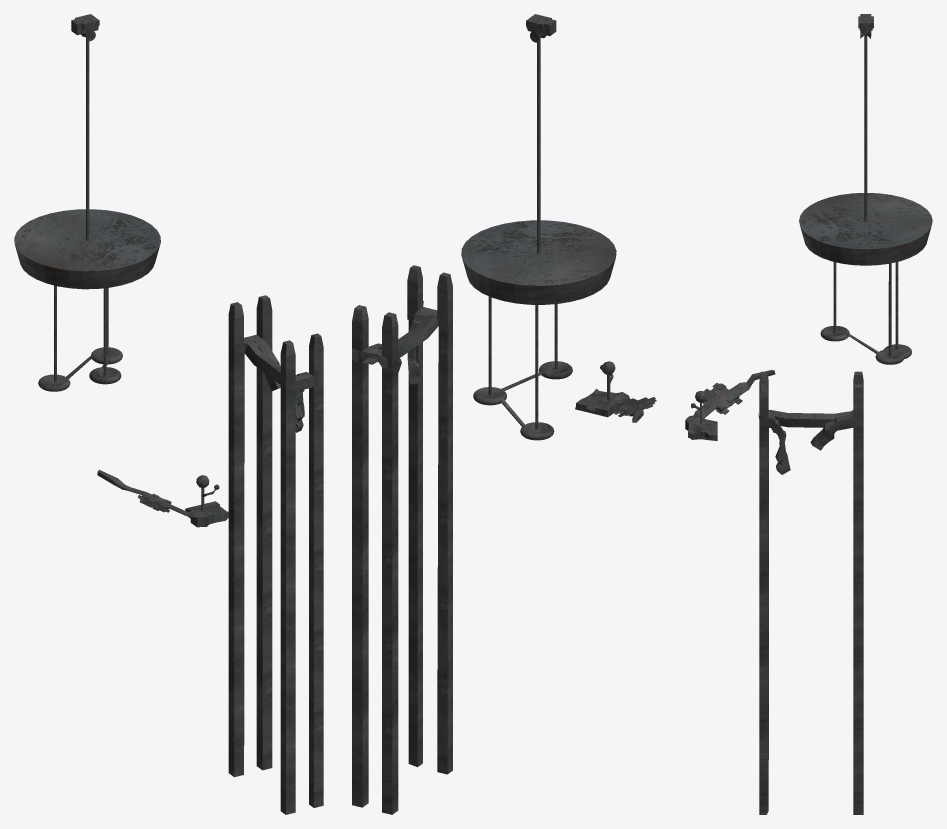
The model's file is LevelPart04.FBX.
3 views of the same model, side by side, from view 1: azimuth 30°, elevation 25°; view 2: azimuth 150°, elevation 25°; view 3: azimuth 270°, elevation 25° (orthographic). The views are drawn at different scales.
Visible parts, largest first — view 1: Saggiest_Bridge, Hanging_Gargens, Icotree_and_Tileland; view 2: Saggiest_Bridge, Hanging_Gargens, Icotree_and_Tileland; view 3: Saggiest_Bridge, Hanging_Gargens, Icotree_and_Tileland.
Boxes of the visible parts, <box> form: Saggiest_Bridge: <box>228,295,323,814</box>; Hanging_Gargens: <box>14,14,160,391</box>; Icotree_and_Tileland: <box>97,469,228,527</box>; Saggiest_Bridge: <box>352,265,452,814</box>; Hanging_Gargens: <box>461,14,616,440</box>; Icotree_and_Tileland: <box>575,361,656,422</box>; Saggiest_Bridge: <box>758,371,863,814</box>; Hanging_Gargens: <box>799,14,932,364</box>; Icotree_and_Tileland: <box>685,370,775,440</box>.
Size of the model in its own units: 234 by 728 by 228.
Materials: 1 (1 with a texture image).
